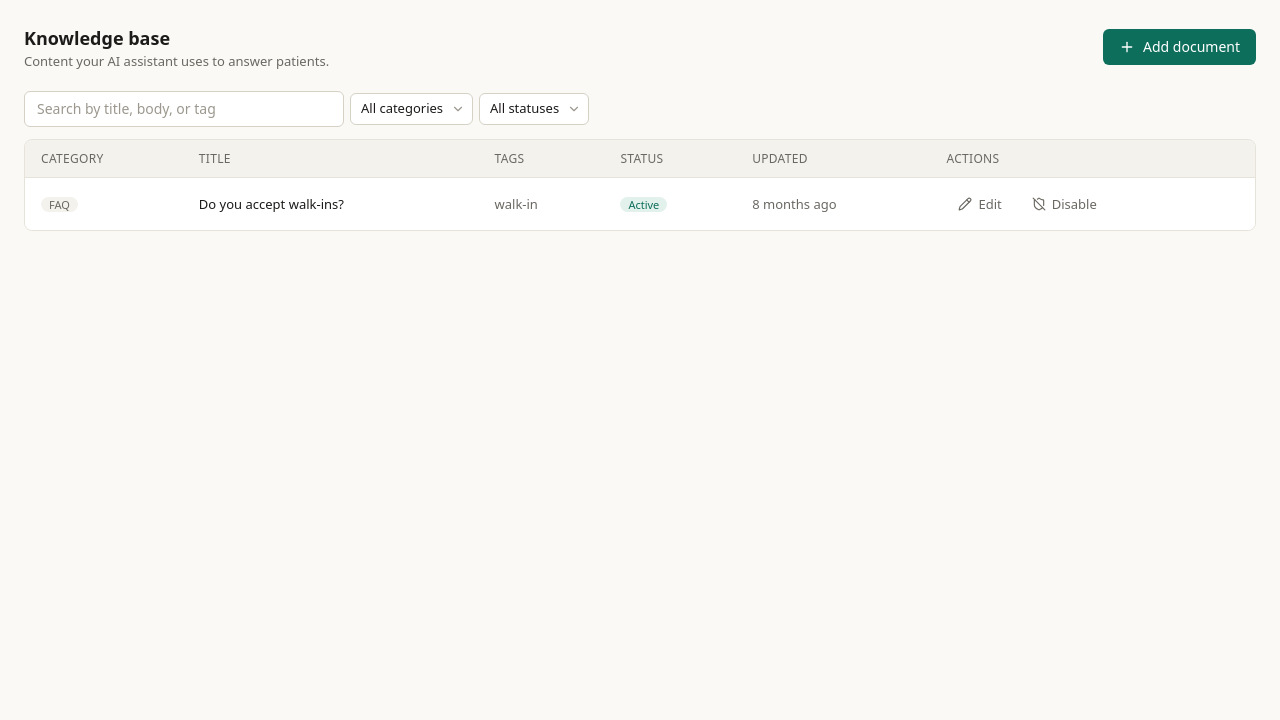
it: KnowledgePage › edits a knowledge document and refreshes the list
Click the button with aria-label "Edit Do you accept walk-ins?". click: click(980, 204)
box: [946, 188, 1014, 220]
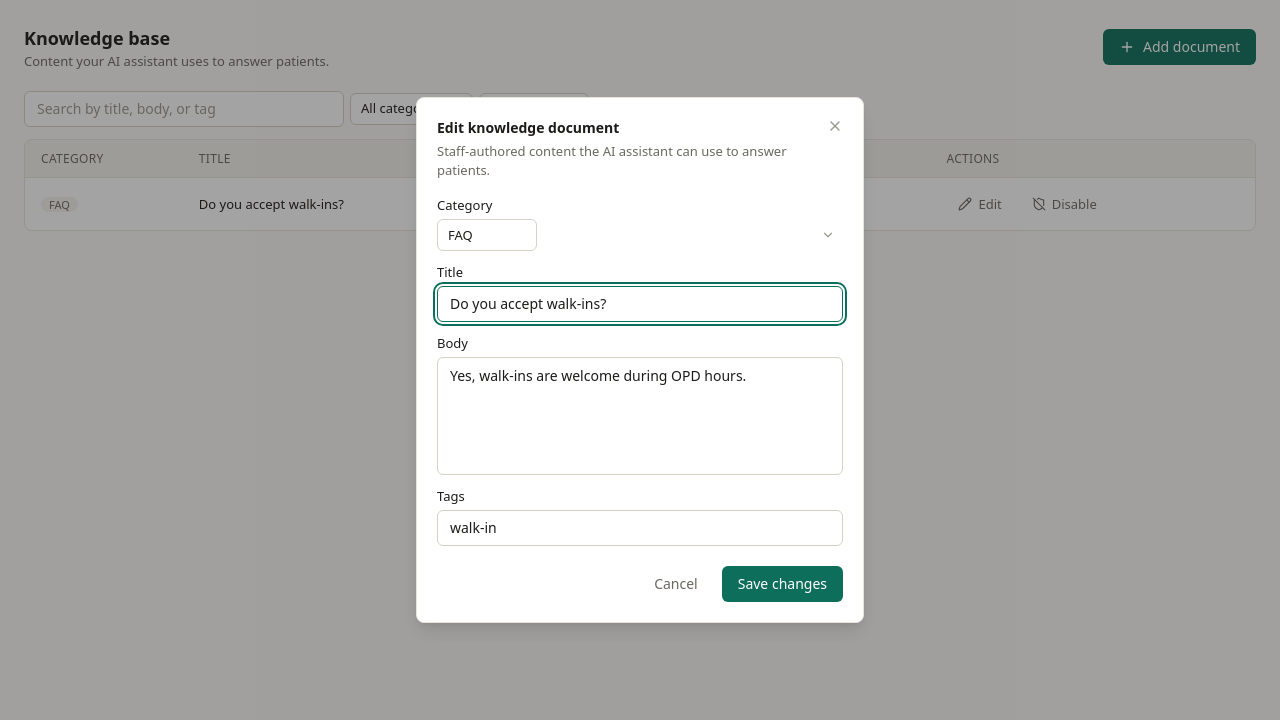
Replace the text in the field labelled "Title" with "Do you accept walk-ins? (updated)". click: (640, 304)
box: [437, 286, 843, 322]
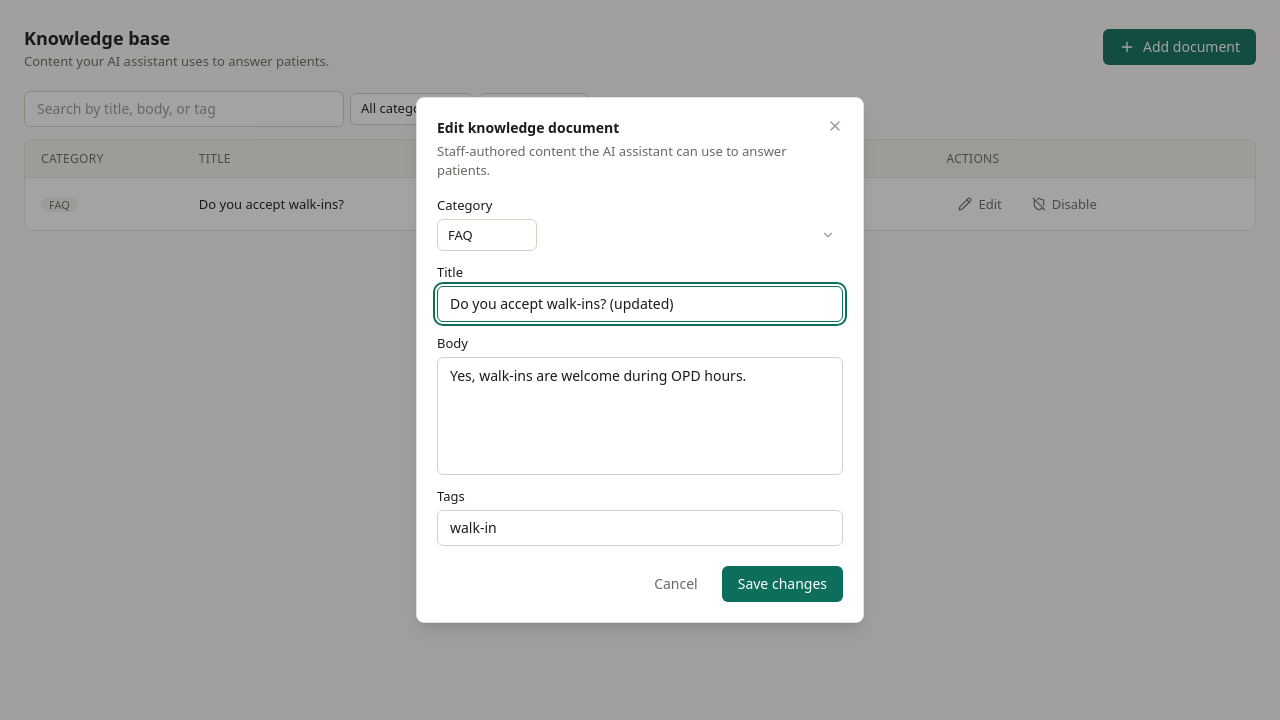
Click the button "Save changes". click: click(782, 584)
box: [722, 566, 843, 602]
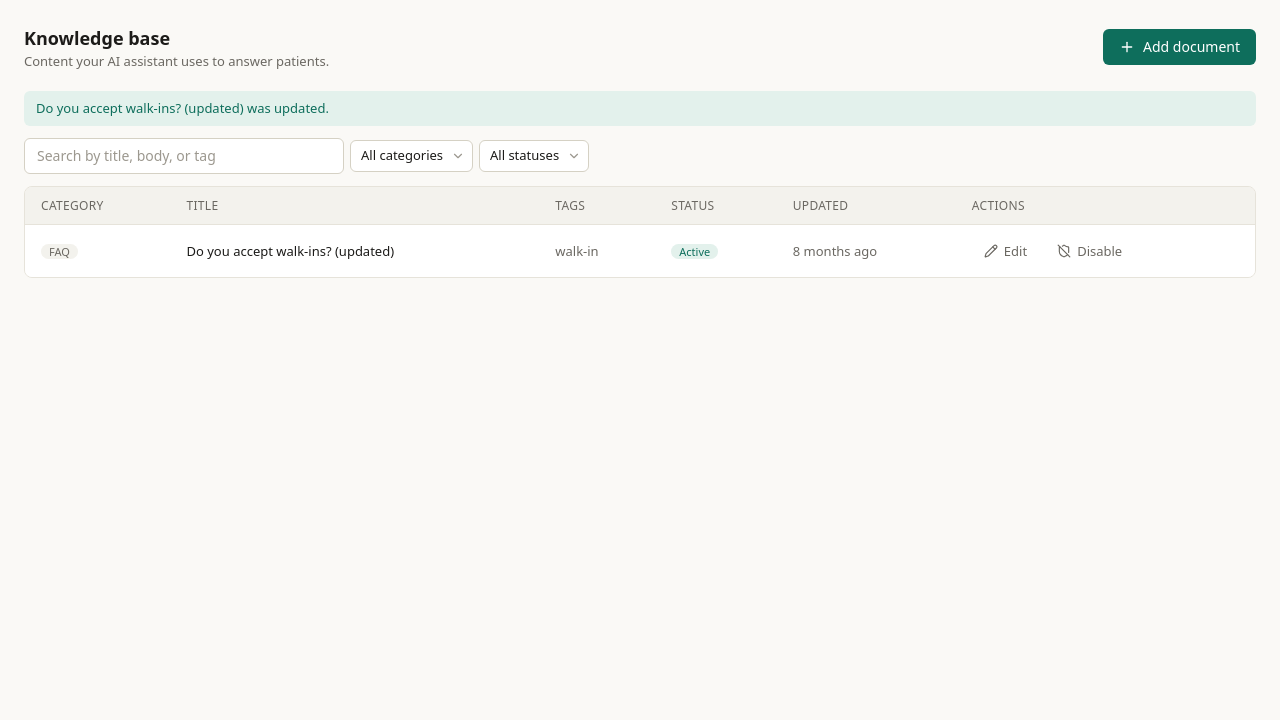
Expected: the text "Do you accept walk-ins? (updated) was updated." is shown, [24, 91, 1256, 126]
Expected: the text "Do you accept walk-ins? (updated)" is shown, [170, 225, 539, 277]
